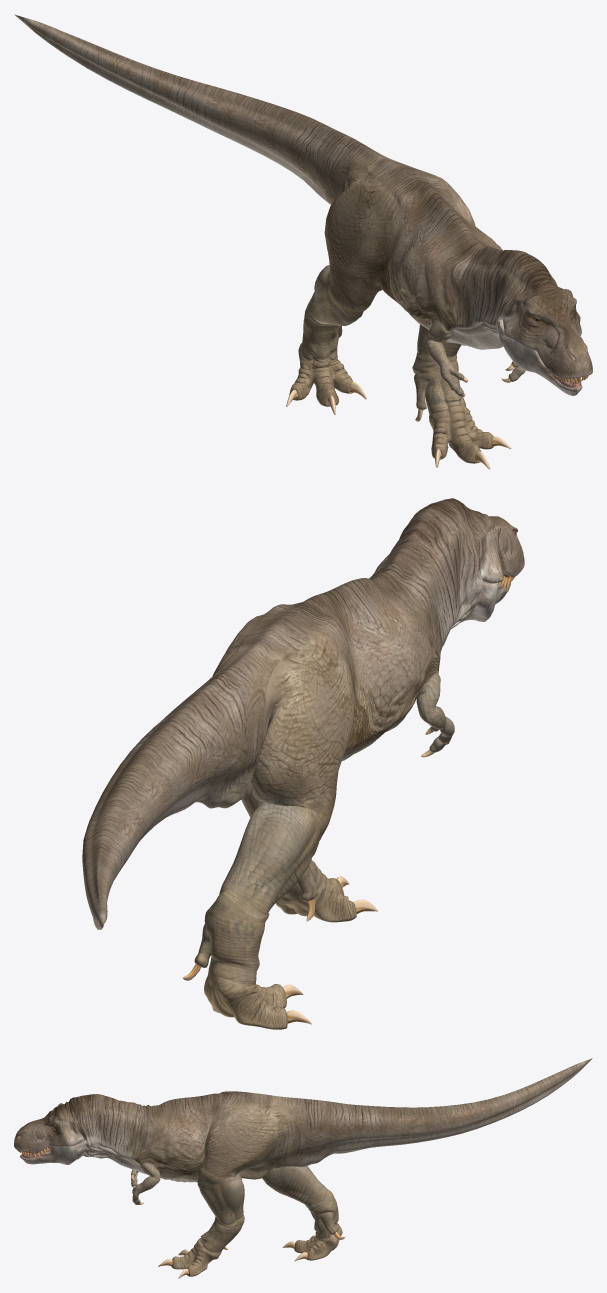
3 renders of one model, top to bottom at view 1: azimuth 30°, elevation 25°; view 2: azimuth 150°, elevation 25°; view 3: azimuth 270°, elevation 25°, orthographic. The views are drawn at different scales.
Parts seen in each view (by area): view 1: Object_4, Object_12; view 2: Object_4, Object_12; view 3: Object_4, Object_12.
Boxes of the visible parts, x1=… form: Object_4: x1=14, y1=14, x2=592, y2=463; Object_12: x1=286, y1=364, x2=513, y2=469; Object_4: x1=82, y1=498, x2=524, y2=1029; Object_12: x1=183, y1=726, x2=434, y2=1024; Object_4: x1=14, y1=1058, x2=592, y2=1276; Object_12: x1=131, y1=1175, x2=345, y2=1278.
Size of the model in its own units: 6.09 by 8.26 by 25.6.
Materials: 6 (4 with a texture image).
